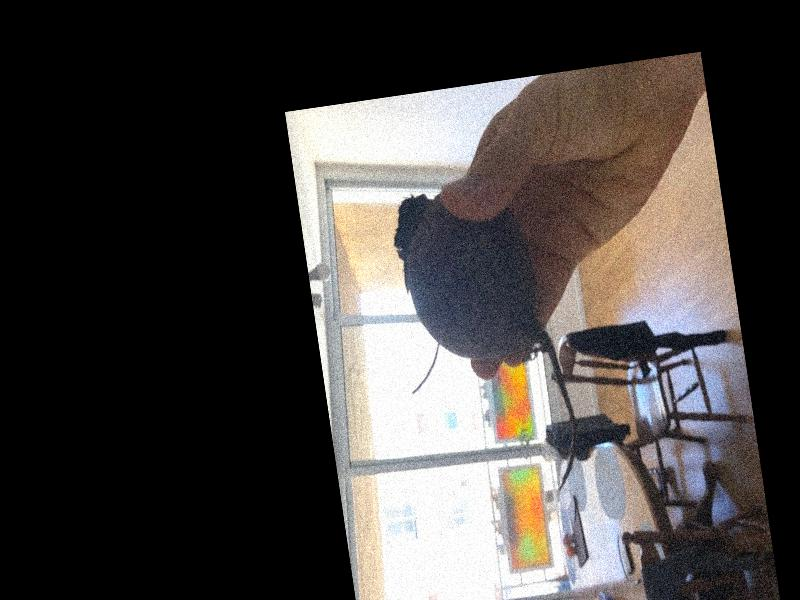Beet: (386, 178, 584, 509)
